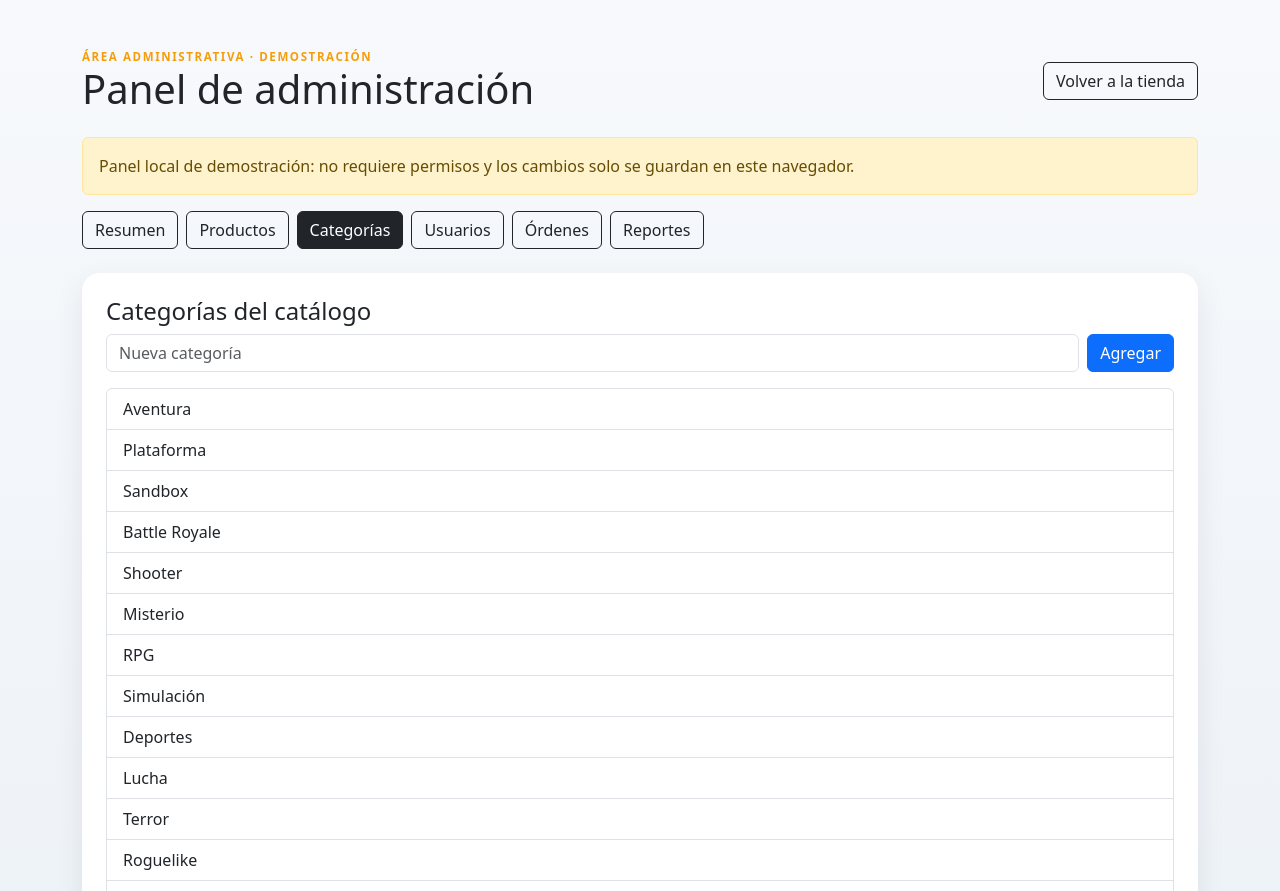
Scenario: Páginas integradas de la tienda › permite agregar categorías en el panel
In the field with placeholder "Nueva categoría": [593, 353] box [106,334,1079,372], type "Ritmo"
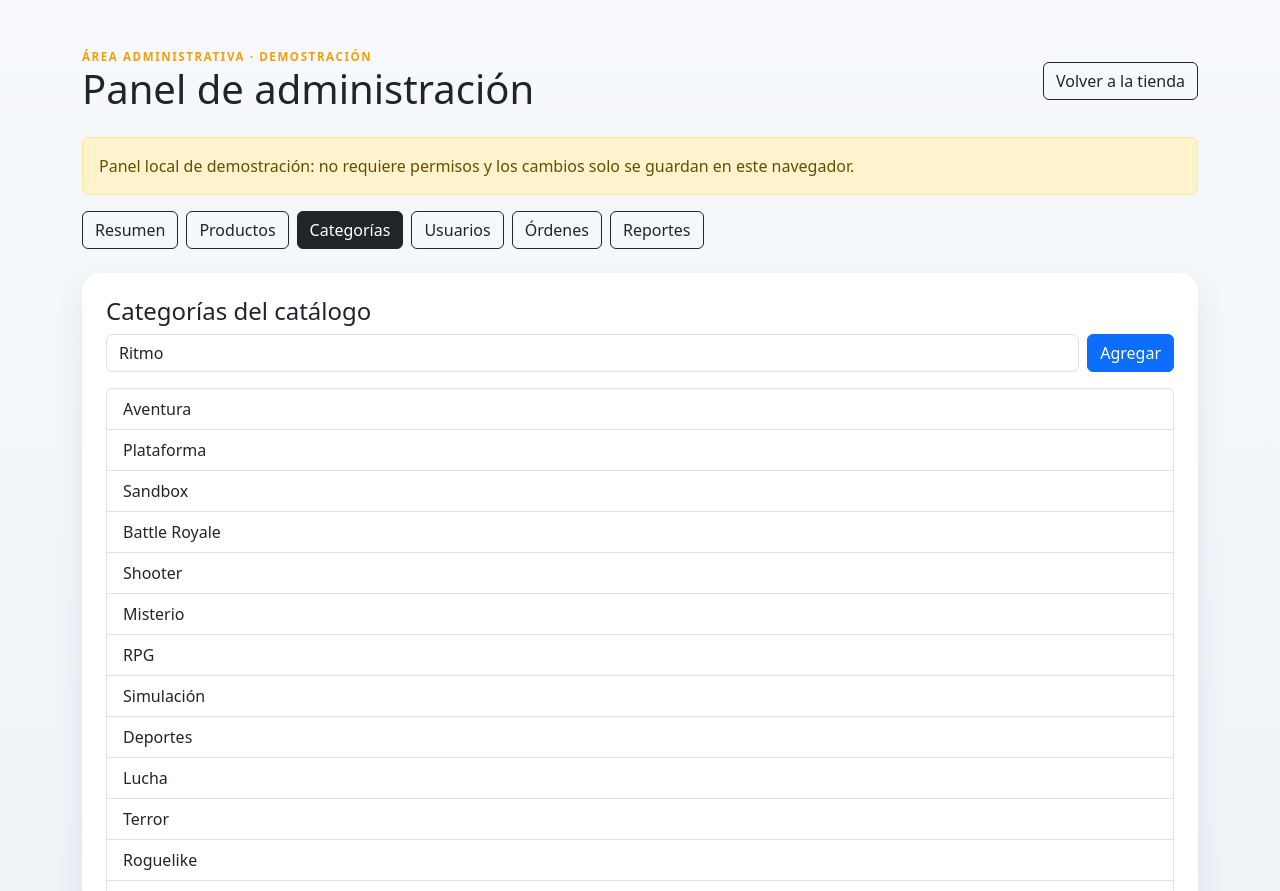
Click the button "Agregar": [1131, 353] box [1087,334,1174,372]
(page scrolled)
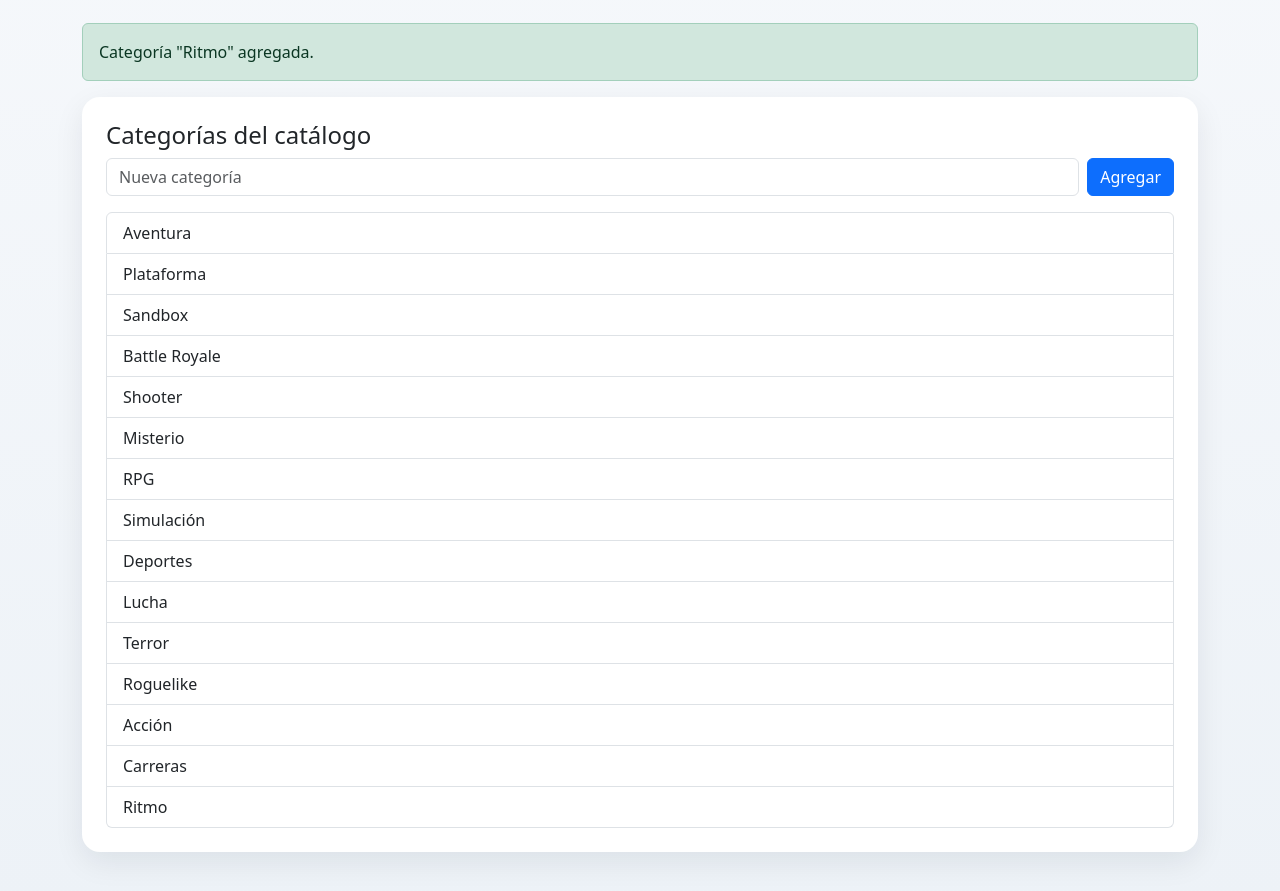
Expected: the list item "Ritmo" is shown, [106,787,1174,828]
